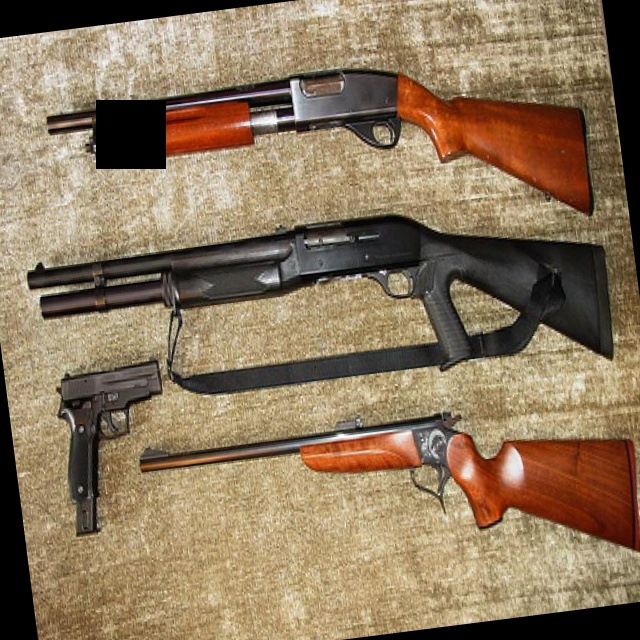gun: (126, 374, 640, 616)
